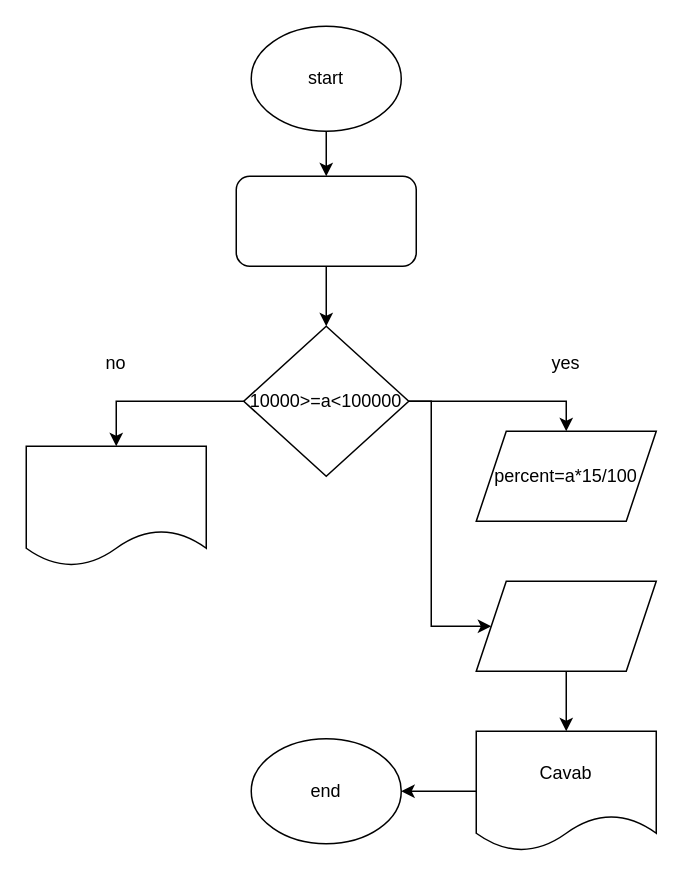
This 683x878 diagram has some shape labels left out. Here are the shapes that lost their labels. From the top down, the centre of each, then its label:
point 325,220: a=12345 percent percent1
point 115,505: Verilen 5 reqemli deyil
point 565,625: percent1=a*3/100
